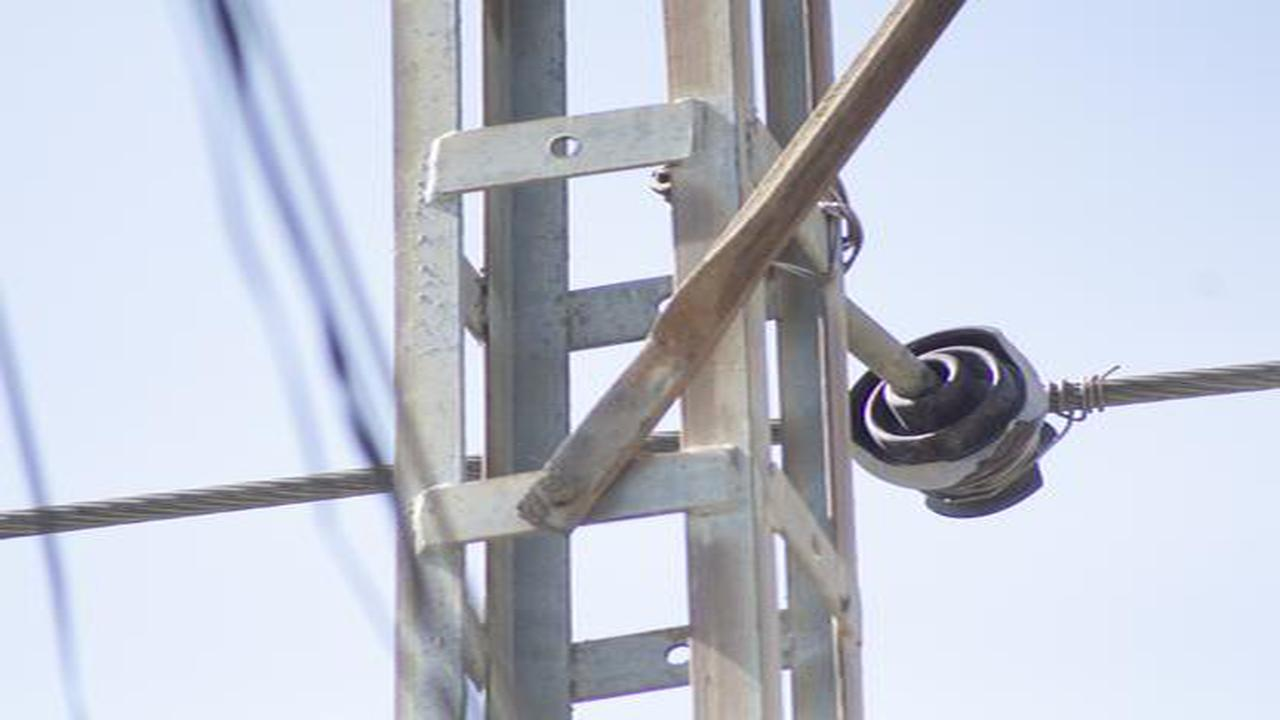defect_pin: (850, 322, 1073, 524)
